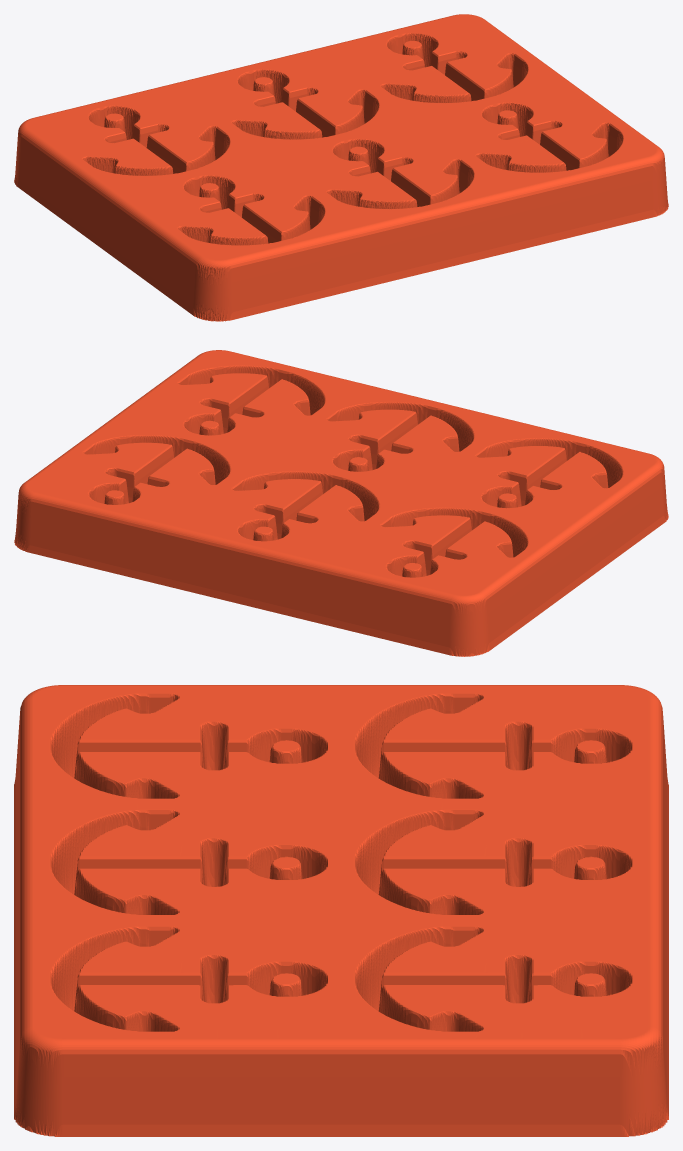
Rendered from mold.glb.
The picture shows the model from 3 angles, top to bottom: view 1: azimuth 30°, elevation 25°; view 2: azimuth 150°, elevation 25°; view 3: azimuth 270°, elevation 25°; orthographic projection. The views are drawn at different scales.
Parts seen in each view (by area): view 1: geometry_0; view 2: geometry_0; view 3: geometry_0.
Boxes of the visible parts, x1,y1,x2,y2 form: geometry_0: (14, 14, 668, 321); geometry_0: (14, 350, 668, 656); geometry_0: (14, 685, 668, 1136).
Size of the model in its own units: 0.163 by 0.0185 by 0.1222.
